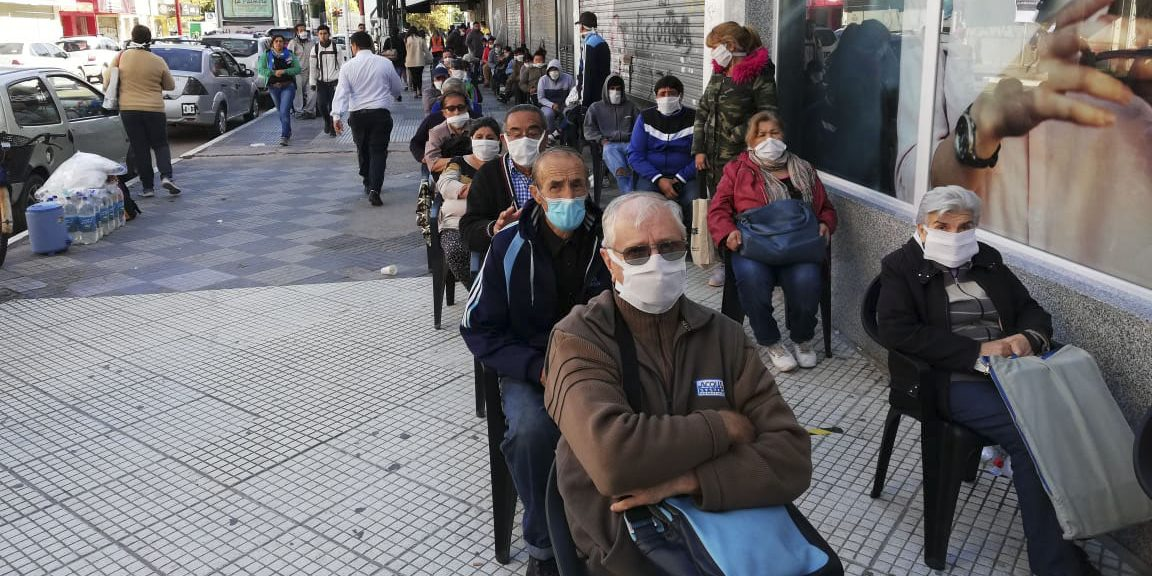barbijo: (598, 246, 692, 316), (907, 220, 983, 271), (528, 183, 587, 228), (492, 131, 547, 167), (747, 135, 787, 167), (468, 131, 502, 162), (650, 91, 686, 116)
